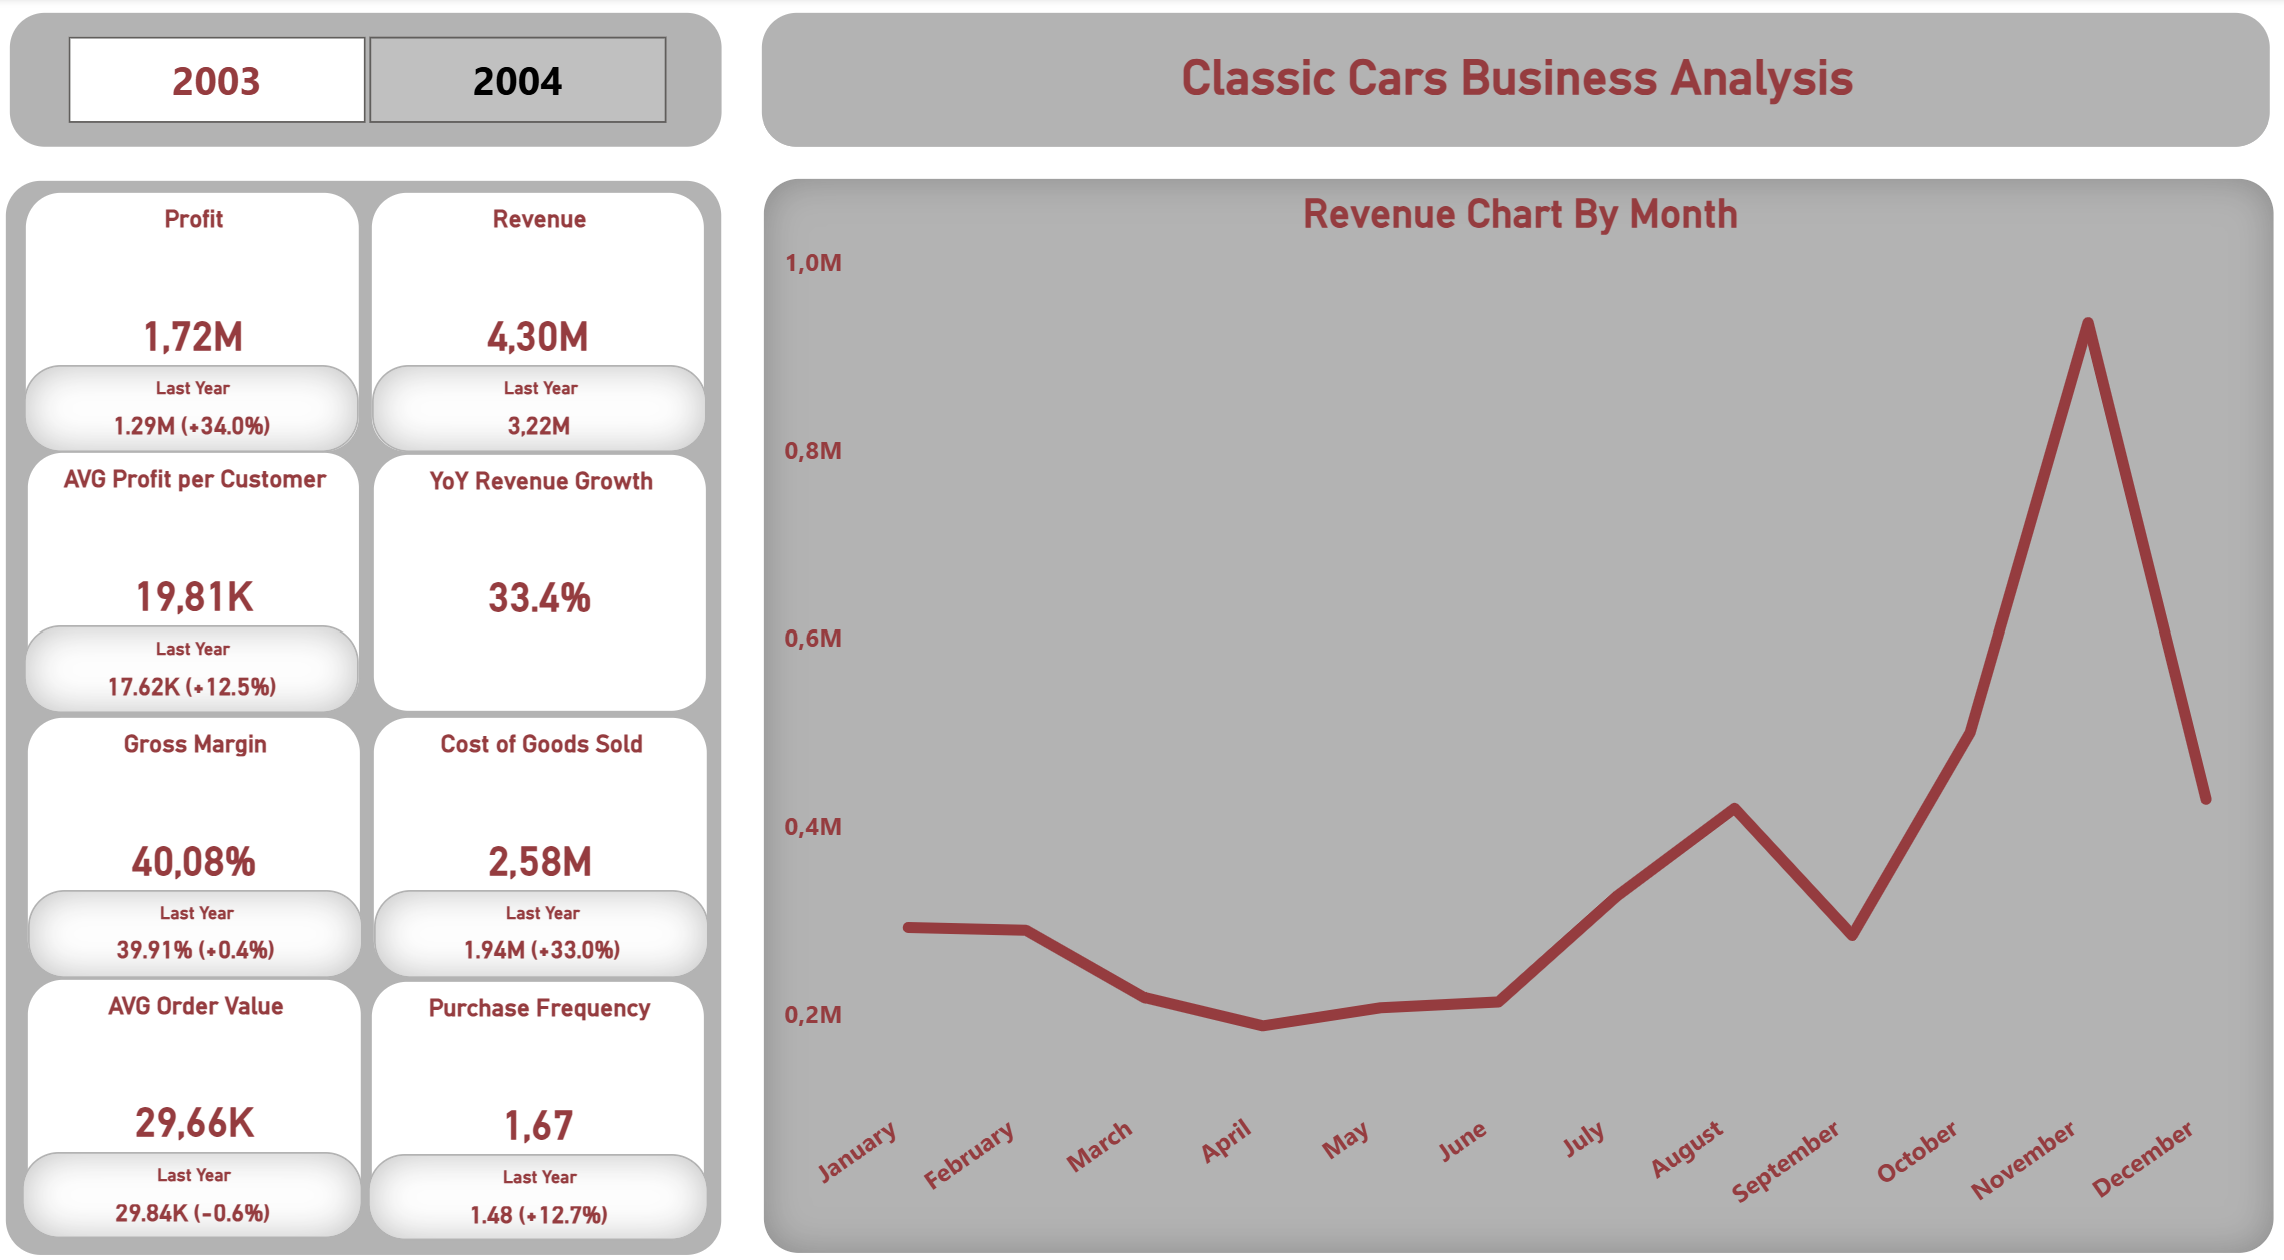

The page's visual inventory and layout, read from the dashboard file:
{"tool":"powerbi","page":{"name":"Classic Cars Business Analysis","canvas":[1280,720],"ordinal":0},"visuals":[{"type":"shape","box":[8.3,99,391.9,586.8],"z":0},{"type":"shape","title":"Classic Cars Business Analysis","box":[421,7.4,823.3,75.2],"z":1000},{"type":"lineChart","title":"Revenue Chart By Month","fields":{"Y":["classicmodels orderdetails.Revenue"],"Category":["classicmodels orders.orderDate.Variation.Date Hierarchy.Month"]},"box":[421.7,98.5,824.4,587],"z":2000},{"type":"slicer","fields":{"Values":["classicmodels orders.orderDate.Variation.Date Hierarchy.Year"]},"box":[10.4,7.3,389.8,75],"z":3000},{"type":"card","title":"Revenue","fields":{"Values":["classicmodels orderdetails.Revenue"]},"box":[208.5,105.3,183,142.8],"z":4000},{"type":"card","title":"Profit","fields":{"Values":["classicmodels orderdetails.Profit"]},"box":[19.8,105.3,183.5,142.8],"z":5000},{"type":"card","title":"Cost of Goods Sold","fields":{"Values":["classicmodels orderdetails.Costs of Goods Sold"]},"box":[209.8,391,183.3,142],"z":6000},{"type":"card","title":"Gross Margin","fields":{"Values":["classicmodels orderdetails.Gross Margin"]},"box":[20.8,390.9,183,142],"z":7000},{"type":"card","title":"Purchase Frequency","fields":{"Values":["classicmodels orderdetails.Perchase Frequency"]},"box":[208.7,535.1,183,142],"z":8000},{"type":"card","title":"YoY Revenue Growth","fields":{"Values":["classicmodels orderdetails.YoY Growth Display"]},"box":[209.5,248.1,183,141],"z":9000},{"type":"card","title":"AVG Order Value","fields":{"Values":["classicmodels orderdetails.AOV"]},"box":[20.8,534.7,183.5,141],"z":10000},{"type":"card","title":"AVG Profit per Customer","fields":{"Values":["classicmodels orderdetails.Profit per customer"]},"box":[21.2,247.9,182.3,142],"z":11000},{"type":"card","title":"Last Year","fields":{"Values":["classicmodels orderdetails.COGS Last Year Display"]},"box":[210,486,182.3,48],"z":11002},{"type":"card","title":"Last Year","fields":{"Values":["classicmodels orderdetails.Revenue Last Year Display"]},"box":[209.8,200.3,182.3,47.7],"z":11003},{"type":"card","title":"Last Year","fields":{"Values":["classicmodels orderdetails.Profit Last Year Display"]},"box":[20.1,200.3,182.3,47.7],"z":11004},{"type":"card","title":"Last Year","fields":{"Values":["classicmodels orderdetails.Profit per Cust Last Year Display"]},"box":[20.1,342.3,182.3,47.7],"z":11005},{"type":"card","title":"Last Year","fields":{"Values":["classicmodels orderdetails.AOV Last Year Display"]},"box":[19,629.6,185.5,47],"z":11006},{"type":"card","title":"Last Year","fields":{"Values":["classicmodels orderdetails.Gross Margin Last Year Display"]},"box":[22.3,486.4,182.3,48],"z":11007},{"type":"card","title":"Last Year","fields":{"Values":["classicmodels orderdetails.Purchase Frequency Last Year Display"]},"box":[207.7,630,185.4,47],"z":11008}]}

Visuals, with their boxes in screenshot pixels (x1, y1, x2, y2), scaled from the page's 1280x720 canvas onto the 2284x1260 screenshot:
shape: (15, 173, 714, 1200)
"Classic Cars Business Analysis" shape: (751, 13, 2220, 145)
"Revenue Chart By Month" lineChart: (752, 172, 2224, 1200)
slicer - classicmodels orders.orderDate.Variation.Date Hierarchy.Year: (19, 13, 714, 144)
"Revenue" card: (372, 184, 699, 434)
"Profit" card: (35, 184, 363, 434)
"Cost of Goods Sold" card: (374, 684, 701, 933)
"Gross Margin" card: (37, 684, 364, 933)
"Purchase Frequency" card: (372, 936, 699, 1185)
"YoY Revenue Growth" card: (374, 434, 700, 681)
"AVG Order Value" card: (37, 936, 365, 1182)
"AVG Profit per Customer" card: (38, 434, 363, 682)
"Last Year" card: (375, 850, 700, 934)
"Last Year" card: (374, 351, 700, 434)
"Last Year" card: (36, 351, 361, 434)
"Last Year" card: (36, 599, 361, 682)
"Last Year" card: (34, 1102, 365, 1184)
"Last Year" card: (40, 851, 365, 935)
"Last Year" card: (371, 1102, 701, 1185)
